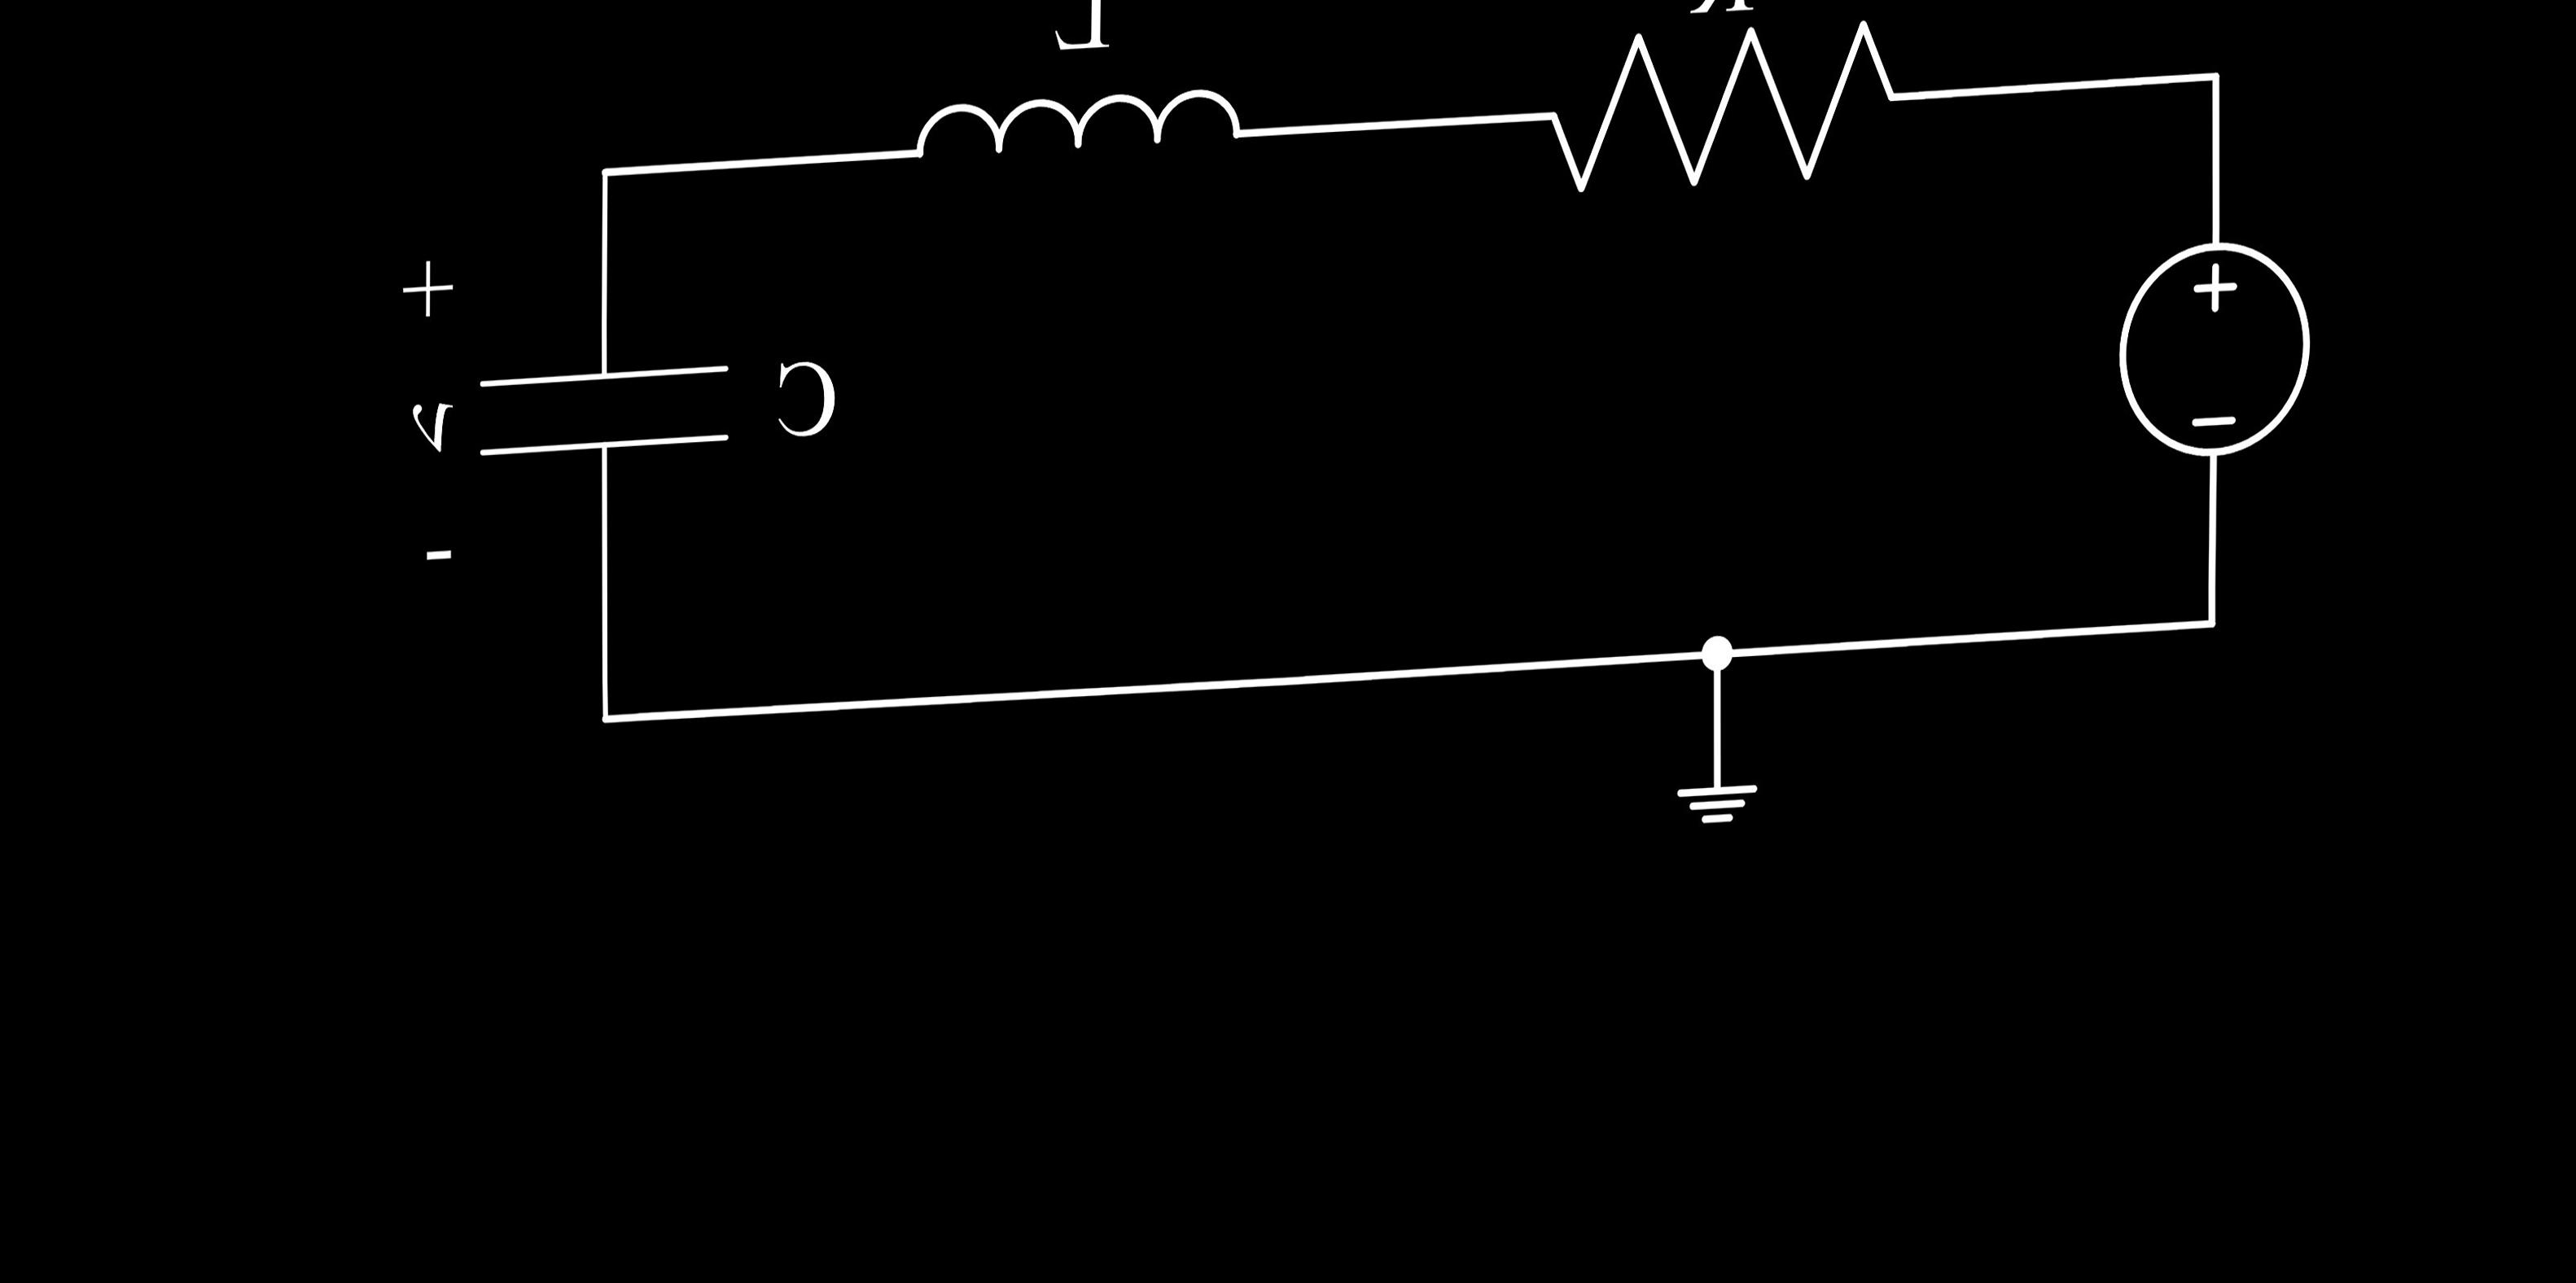Battery: (2029, 202, 2362, 519)
